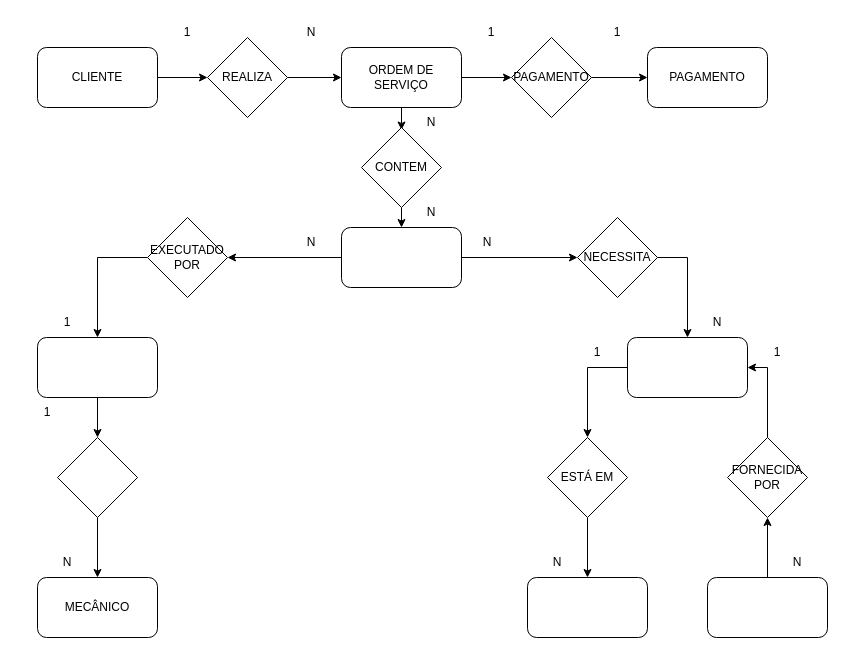
The diagram is 845 pixels wide and 655 high, and some of its shapes have lost their labels. Each missing label, with the centre of its shape:
COMPOSTA POR: the point at 97,477
EQUIPE: the point at 97,367
ESTOQUE: the point at 587,607
FORNECEDOR: the point at 767,607
PEÇA: the point at 687,367
SERVIÇO: the point at 401,257
